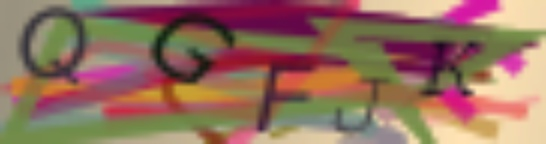F: (254, 62, 321, 137)
G: (150, 10, 243, 87)
J: (332, 74, 391, 136)
K: (419, 39, 481, 100)
Q: (18, 4, 87, 87)
